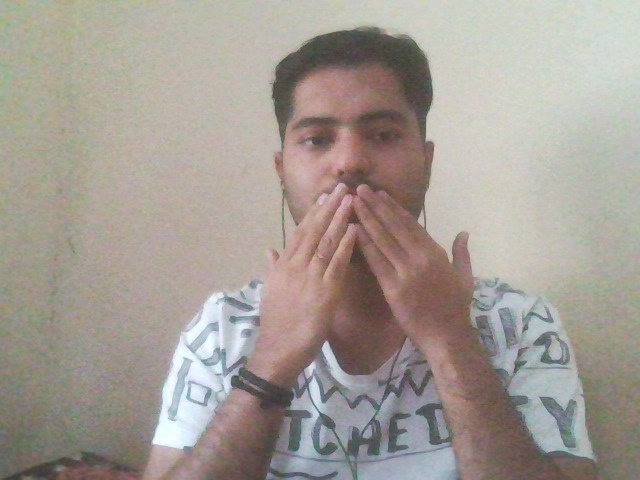Thanks: (205, 187, 539, 355)
